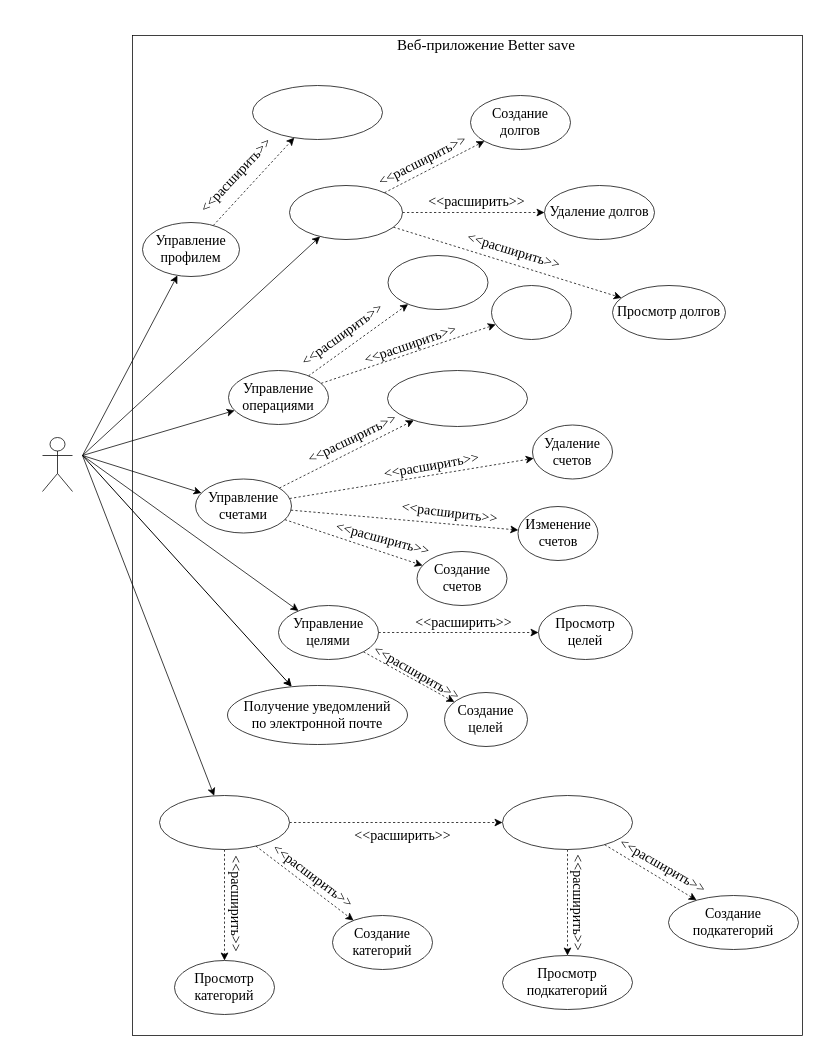
Some shapes in this 820 by 1053 pixel diagram are drawn without their labels. The shapes that lost their labels are listed below. From the top down, each one's centre as x and y in pixels, then its label:
the point at 317,112: Просмотр и изменени пользователя
the point at 345,212: Управление долгами
the point at 437,282: Создание операций
the point at 531,312: Просмотр операций
the point at 457,398: Просмотр информации о счете
the point at 57,464: Пользователь
the point at 224,822: Управление категориями
the point at 567,822: Управление подкатегориями
